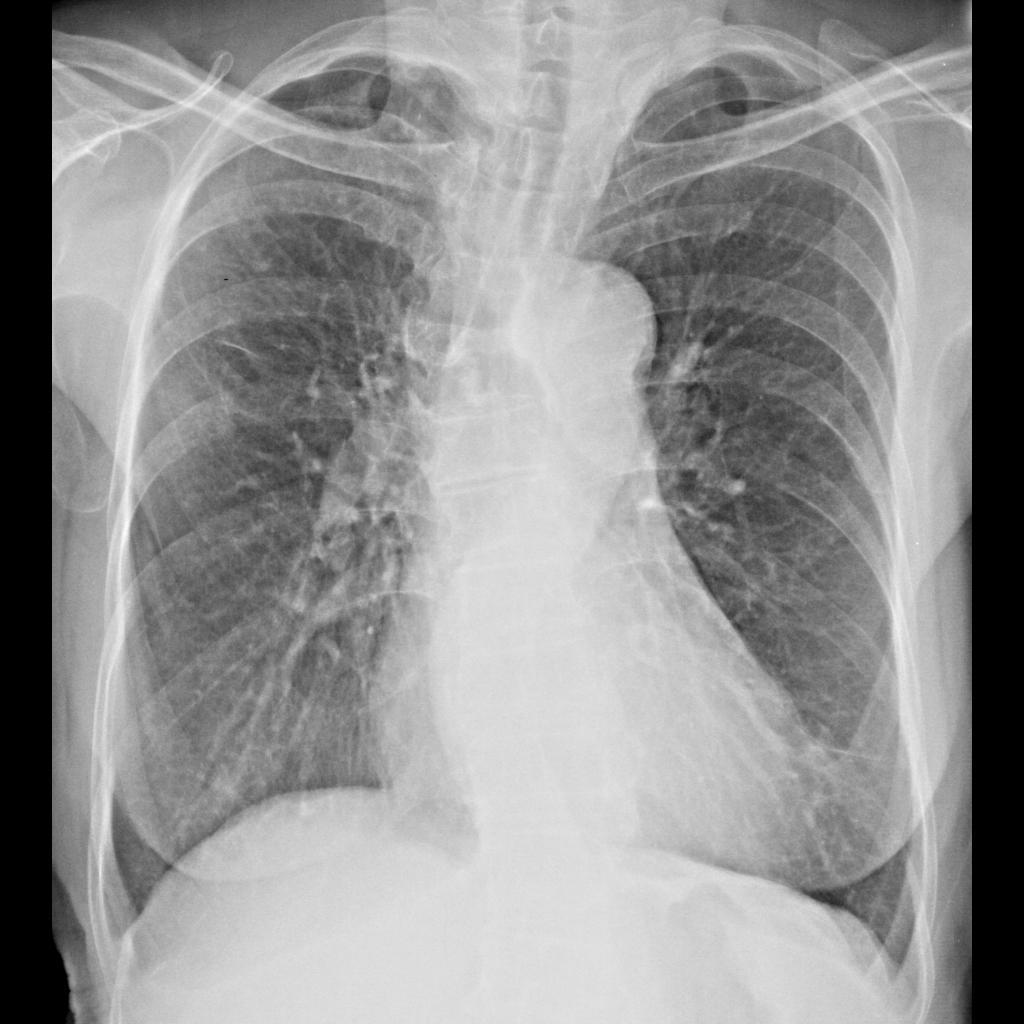Nodule: (173, 375, 244, 446)
